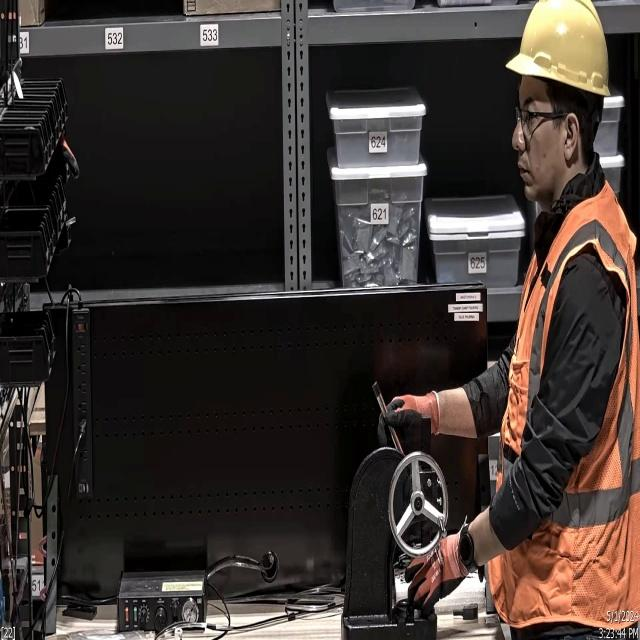gloves: (402, 528, 462, 620)
